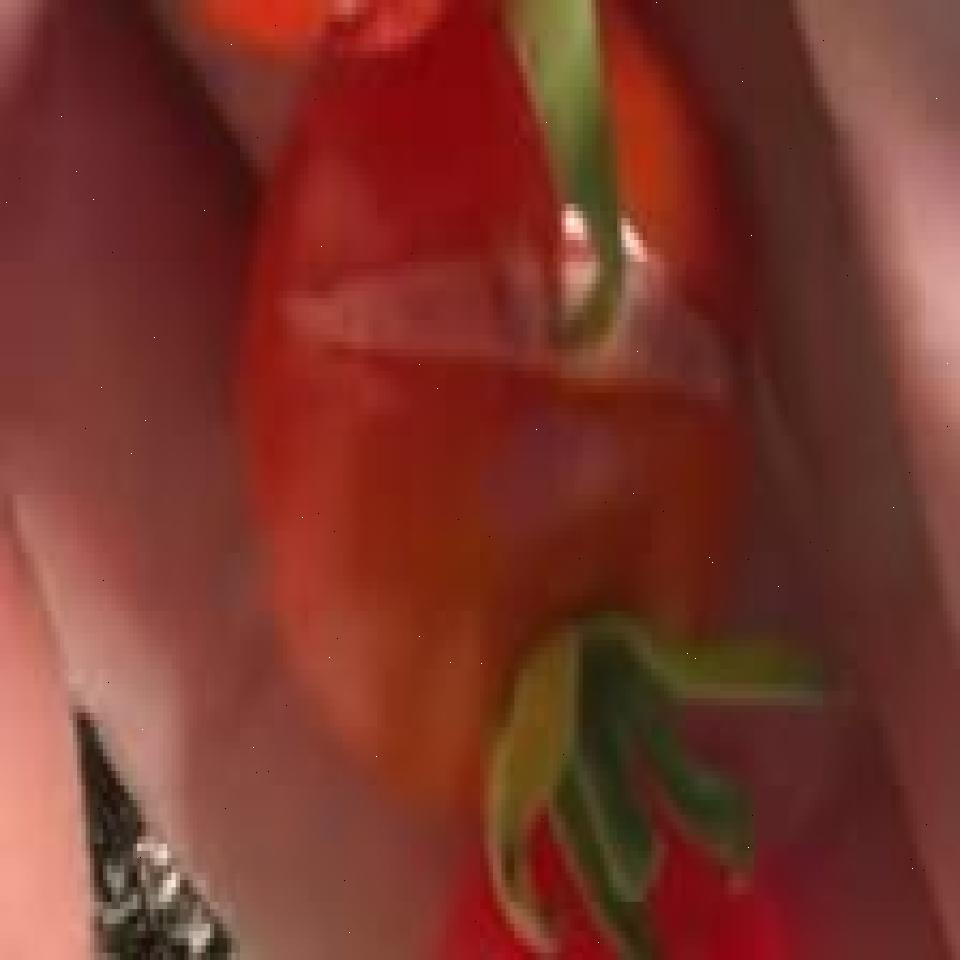Cracking: (273, 219, 747, 454)
